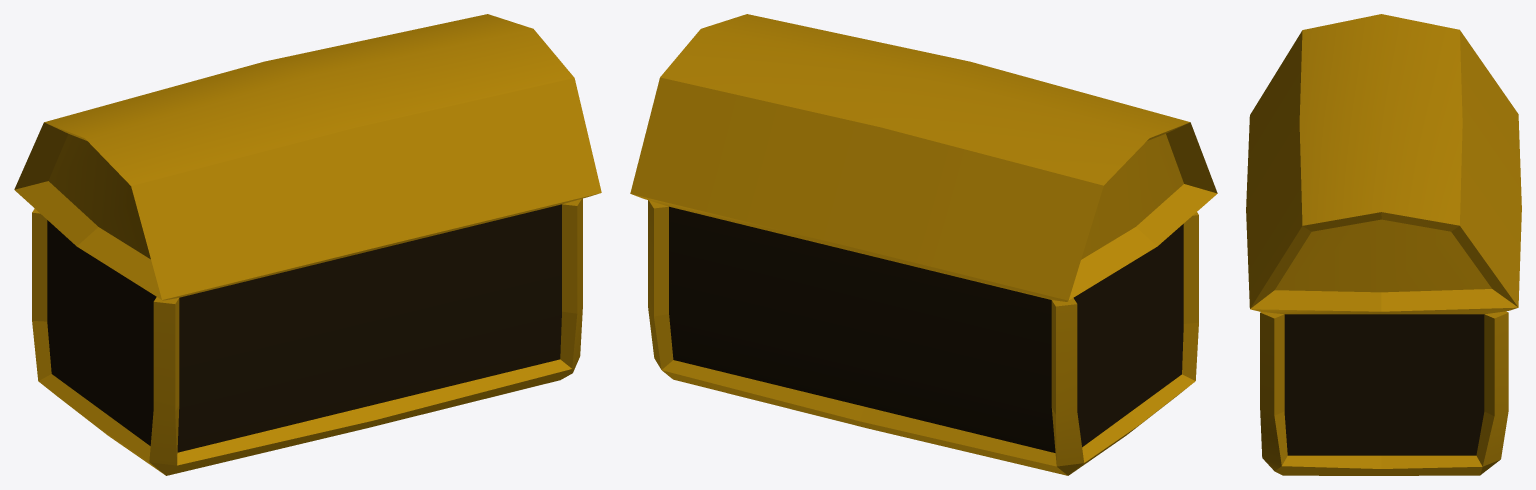
The model's file is chest.FBX.
The picture shows the model from 3 angles, left to right: view 1: azimuth 30°, elevation 25°; view 2: azimuth 150°, elevation 25°; view 3: azimuth 270°, elevation 25°; orthographic projection. The views are drawn at different scales.
Visible parts, largest first — view 1: Box001; view 2: Box001; view 3: Box001.
Part boxes in pixels (<box>): Box001: <box>14,14,601,475</box>; Box001: <box>630,14,1217,475</box>; Box001: <box>1246,14,1521,475</box>.
Bounding box in the file's own units: 34 × 21.9 × 19.33.
